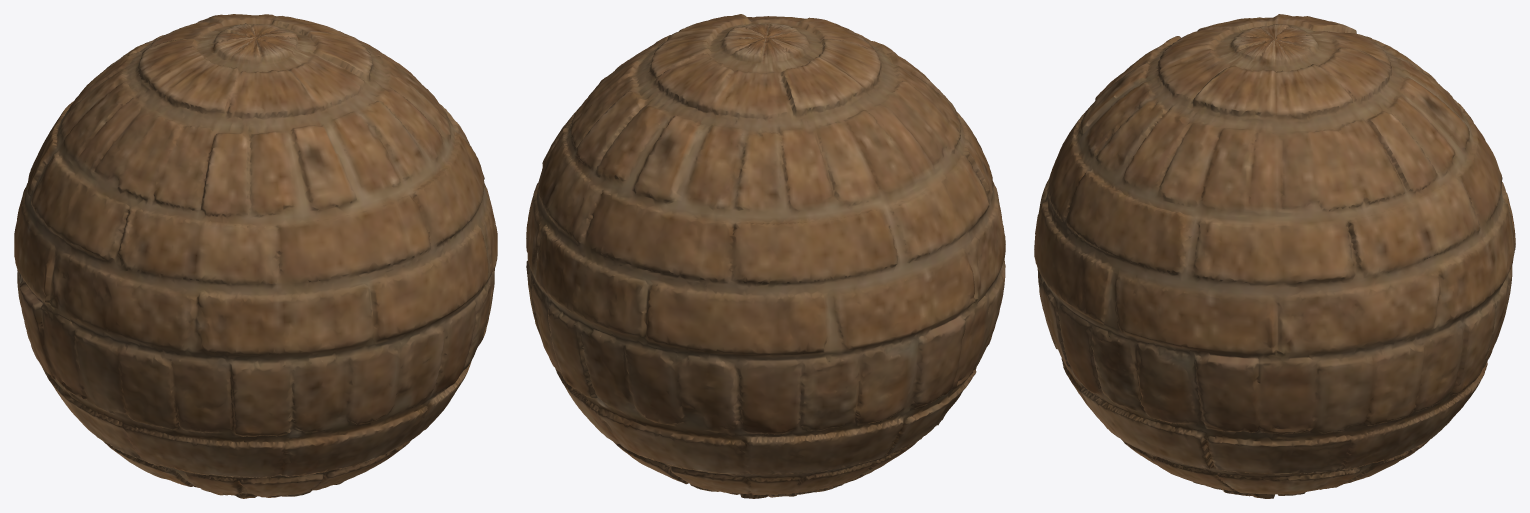
File: patterned_brick_wall_2k.gltf
3 renders of one model, left to right at view 1: azimuth 30°, elevation 25°; view 2: azimuth 150°, elevation 25°; view 3: azimuth 270°, elevation 25°, orthographic.
Parts seen in each view (by area): view 1: sphere_gltf; view 2: sphere_gltf; view 3: sphere_gltf.
Boxes of the visible parts, x1,y1,x2,y2 form: sphere_gltf: (14, 14, 497, 498); sphere_gltf: (526, 14, 1005, 498); sphere_gltf: (1034, 14, 1515, 498).
Bounding box in the file's own units: 2.03 × 2.03 × 2.02.
Materials: 1 (1 with a texture image).
